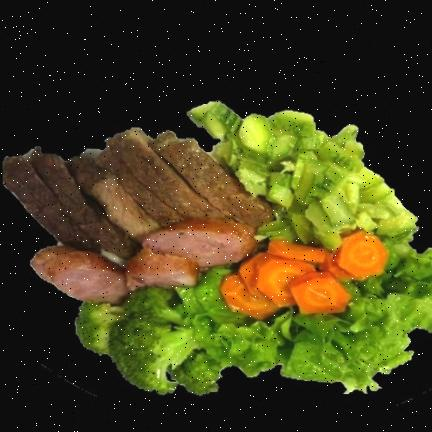broccoli: (76, 288, 224, 395)
green_vegetables: (189, 103, 417, 251)
meat: (2, 129, 274, 258)
salad: (218, 247, 432, 392)
